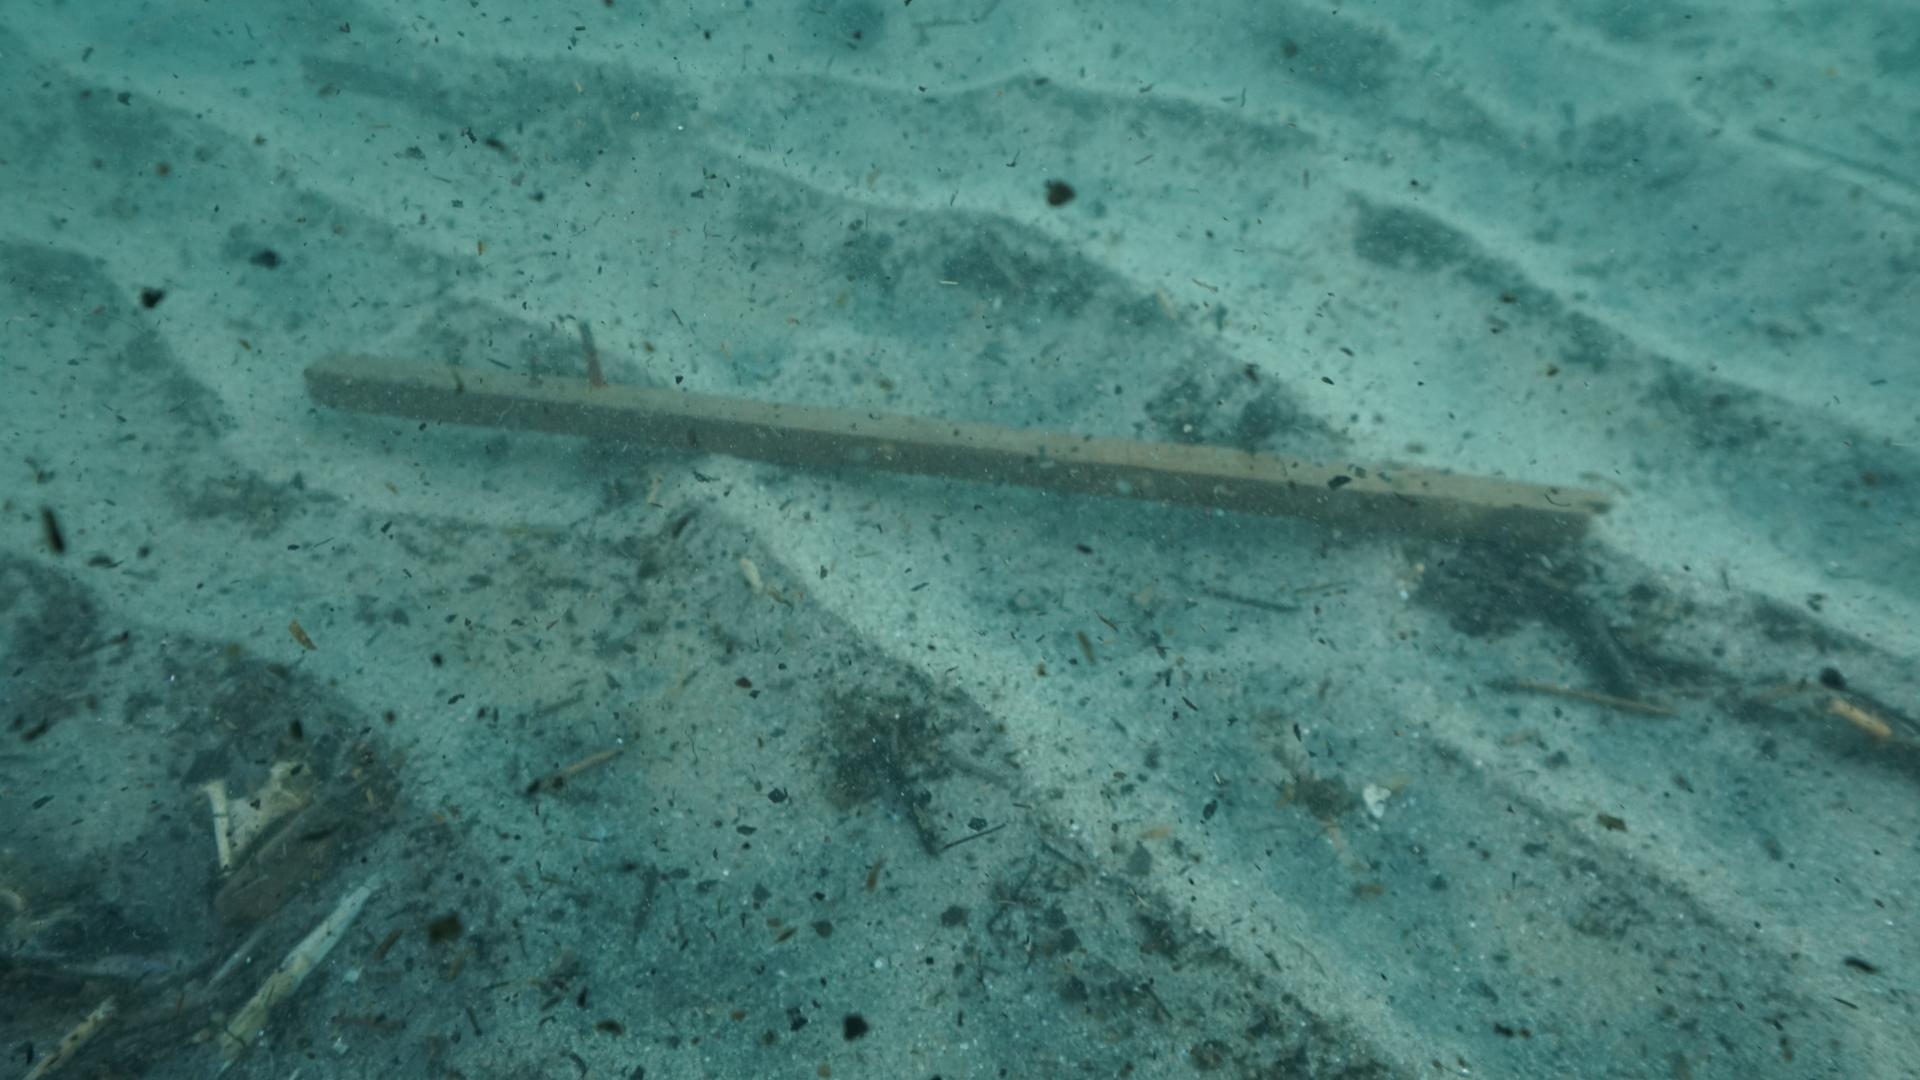wood: (301, 349, 1615, 555)
